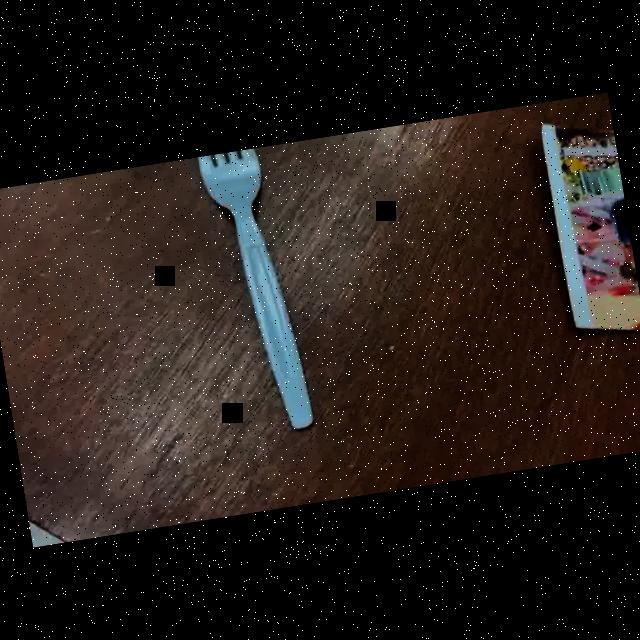plastic_cultery: (198, 146, 318, 441)
